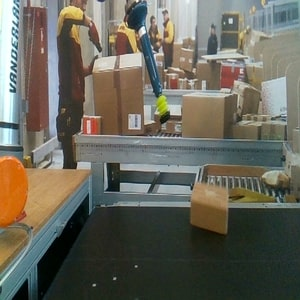box: (189, 181, 230, 235)
